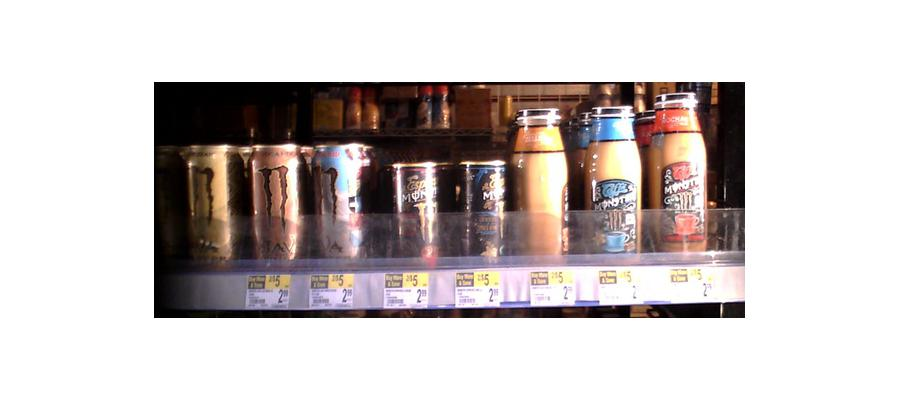bottle: (577, 97, 644, 259), (650, 89, 709, 255), (509, 106, 568, 261), (306, 139, 372, 263), (244, 133, 304, 265), (178, 140, 242, 262), (384, 155, 443, 265), (450, 150, 506, 262)
